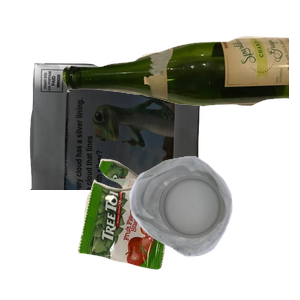glass: (60, 34, 300, 133)
paper: (27, 60, 223, 240)
plastic: (127, 154, 300, 300)
trash: (75, 156, 244, 300)
